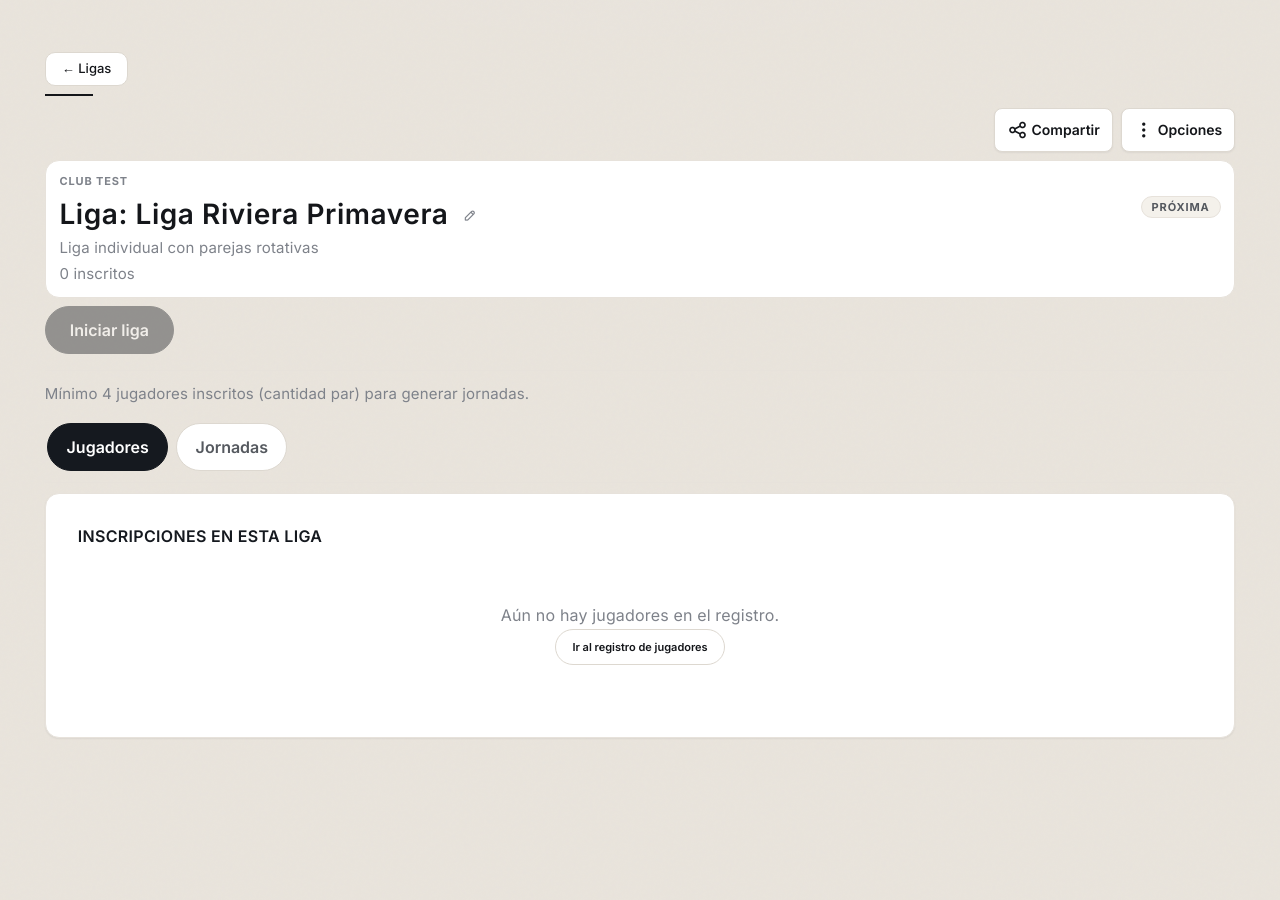
Test: LigaGestionar — composición (render real, sin snapshots) › Reiniciar liga y Eliminar liga están en el menú de opciones; Iniciar liga nunca lo está
Click the button with aria-label "Configuración de la liga". click: coordinates (1178, 130)
box: [1121,108,1235,152]
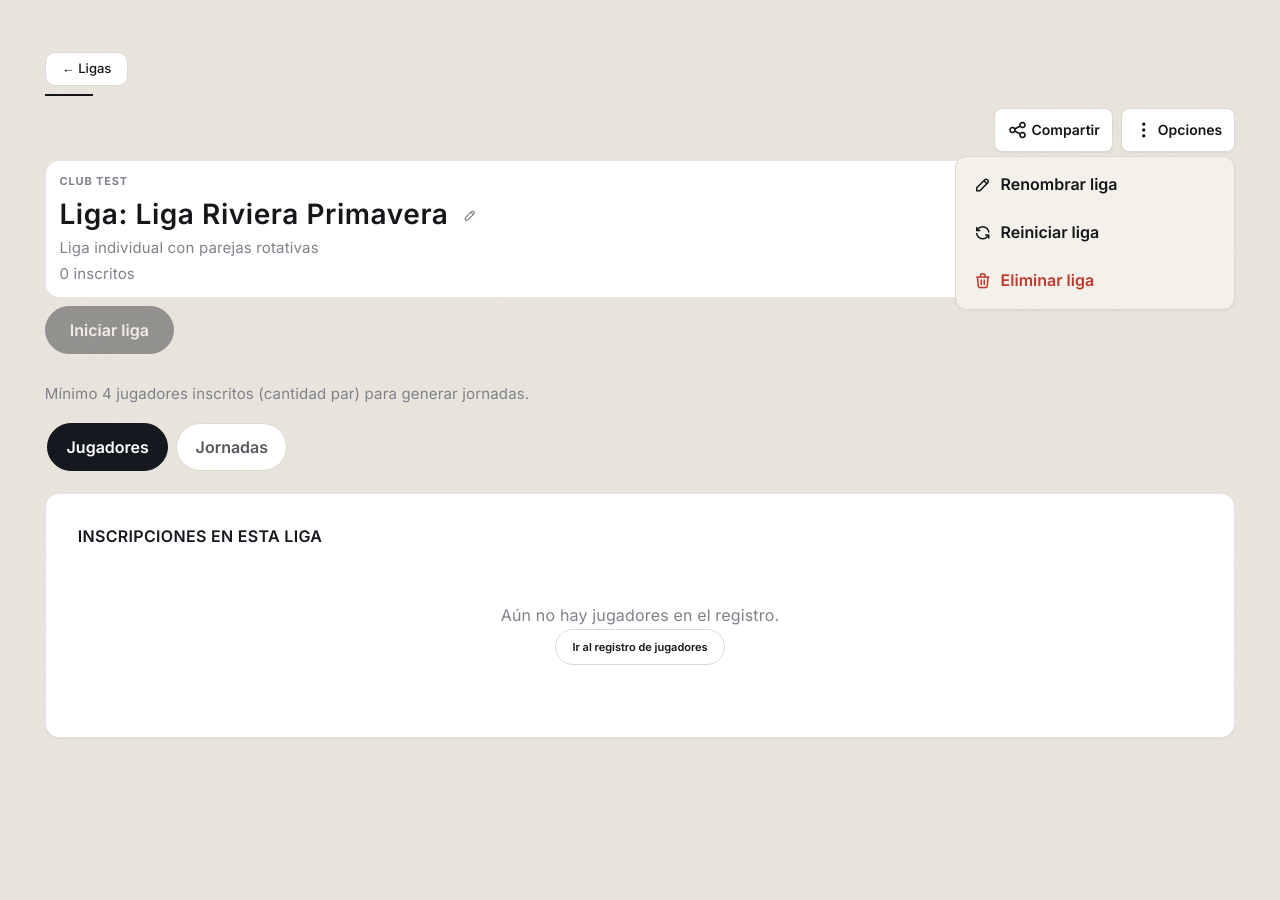
Result: the menu with class "liga-gestionar-options" is shown at [955,156,1235,310]
Result: the menu with class "liga-gestionar-options" shows "Reiniciar liga" at [960,209,1230,257]
Result: the menu with class "liga-gestionar-options" shows "Eliminar liga" at [960,257,1230,305]
